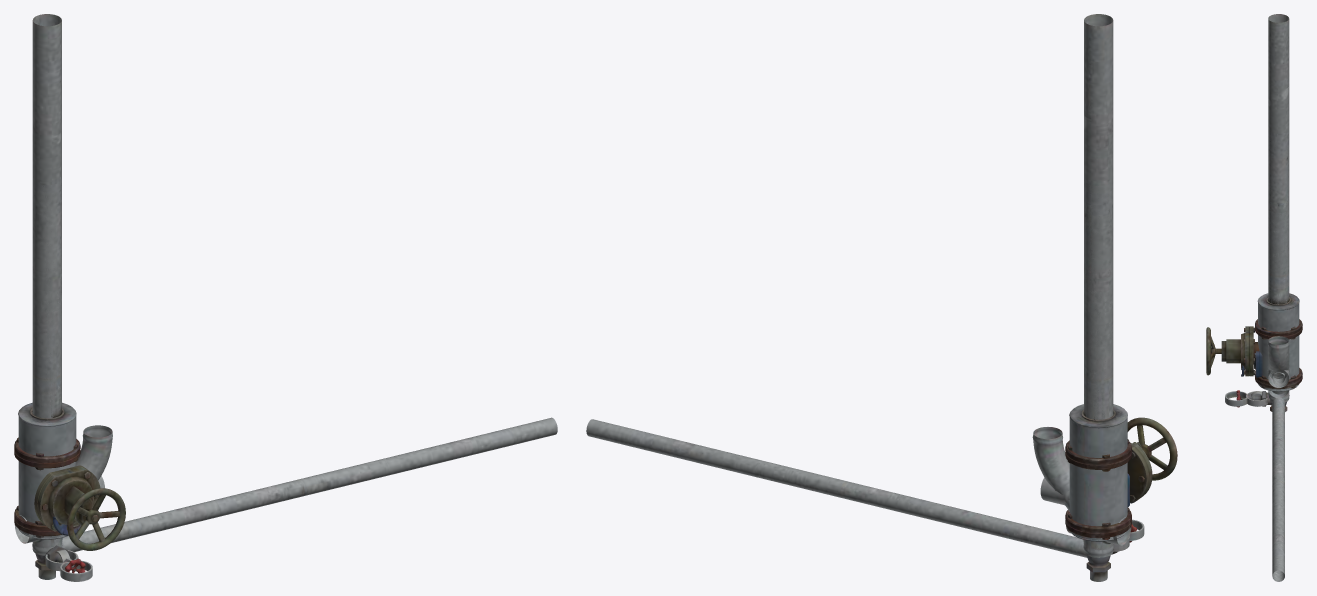
The model's file is kit_pipes.glb.
3 renders of one model, left to right at view 1: azimuth 30°, elevation 25°; view 2: azimuth 150°, elevation 25°; view 3: azimuth 270°, elevation 25°, orthographic. The views are drawn at different scales.
Visible parts, largest first — view 1: pipe_thin_200cm_metal, pipe_200cm_metal, pipe_valve_large_metal, pipe_140cm_metal, pipe_chamber_large_metal, pipe_100cm_metal, pipe_s_curve_3_metal, pipe_thin_valve_1_metal; view 2: pipe_thin_200cm_metal, pipe_200cm_metal, pipe_chamber_large_metal, pipe_140cm_metal, pipe_valve_large_metal, pipe_100cm_metal, pipe_s_curve_3_metal; view 3: pipe_200cm_metal, pipe_140cm_metal, pipe_chamber_large_metal, pipe_thin_200cm_metal, pipe_valve_large_metal, pipe_100cm_metal, pipe_s_curve_3_metal, pipe_support_long_metal, pipe_thin_valve_1_metal, pipe_valve_small_1_metal, pipe_support_metal, pipe_turn_long_metal.
Boxes of the visible parts, <box> form: pipe_thin_200cm_metal: <box>62,417,557,551</box>; pipe_200cm_metal: <box>32,14,61,547</box>; pipe_valve_large_metal: <box>14,437,125,550</box>; pipe_140cm_metal: <box>32,179,61,555</box>; pipe_chamber_large_metal: <box>18,391,76,547</box>; pipe_100cm_metal: <box>32,285,61,555</box>; pipe_s_curve_3_metal: <box>32,425,112,554</box>; pipe_thin_valve_1_metal: <box>35,545,85,579</box>; pipe_thin_200cm_metal: <box>586,419,1087,557</box>; pipe_200cm_metal: <box>1084,14,1113,419</box>; pipe_chamber_large_metal: <box>1069,393,1127,553</box>; pipe_140cm_metal: <box>1084,180,1113,553</box>; pipe_valve_large_metal: <box>1065,417,1177,557</box>; pipe_100cm_metal: <box>1084,287,1113,554</box>; pipe_s_curve_3_metal: <box>1032,427,1113,556</box>; pipe_200cm_metal: <box>1268,14,1289,274</box>; pipe_140cm_metal: <box>1268,134,1289,401</box>; pipe_chamber_large_metal: <box>1257,286,1299,401</box>; pipe_thin_200cm_metal: <box>1272,398,1284,581</box>; pipe_valve_large_metal: <box>1206,319,1302,389</box>; pipe_100cm_metal: <box>1268,209,1289,401</box>; pipe_s_curve_3_metal: <box>1267,336,1289,401</box>; pipe_support_long_metal: <box>1225,391,1247,406</box>; pipe_thin_valve_1_metal: <box>1236,390,1287,411</box>; pipe_valve_small_1_metal: <box>1241,351,1262,377</box>; pipe_support_metal: <box>1246,391,1267,406</box>; pipe_turn_long_metal: <box>1267,368,1289,387</box>.
Bounding box in the file's own units: 2.12 × 2.1 × 0.4578.
1 material, 1 textured.
